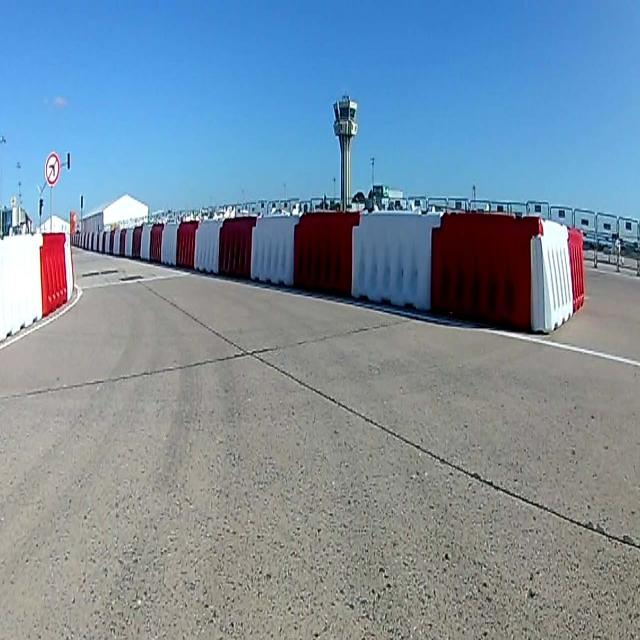soladonulmez: (44, 150, 61, 187)
